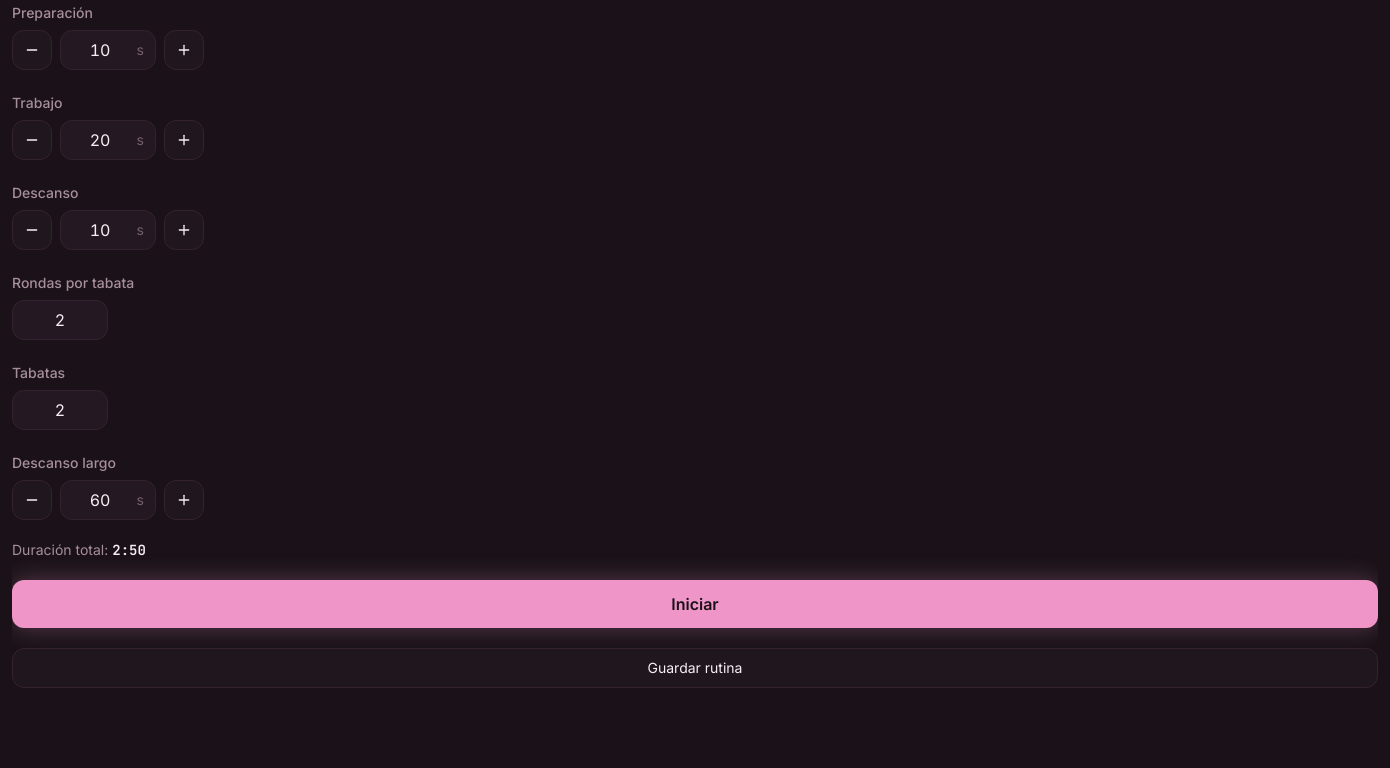
Scenario: TabataConfigScreen — los seis campos validan igual que Clásico (spec timer-modes) › Descanso = 0 muestra el mensaje español y no inicia
This screenshot has width=1390, height=768.
Replace the text in the field labelled "Descanso" with "0": (108, 230) 60,210 -> 156,250
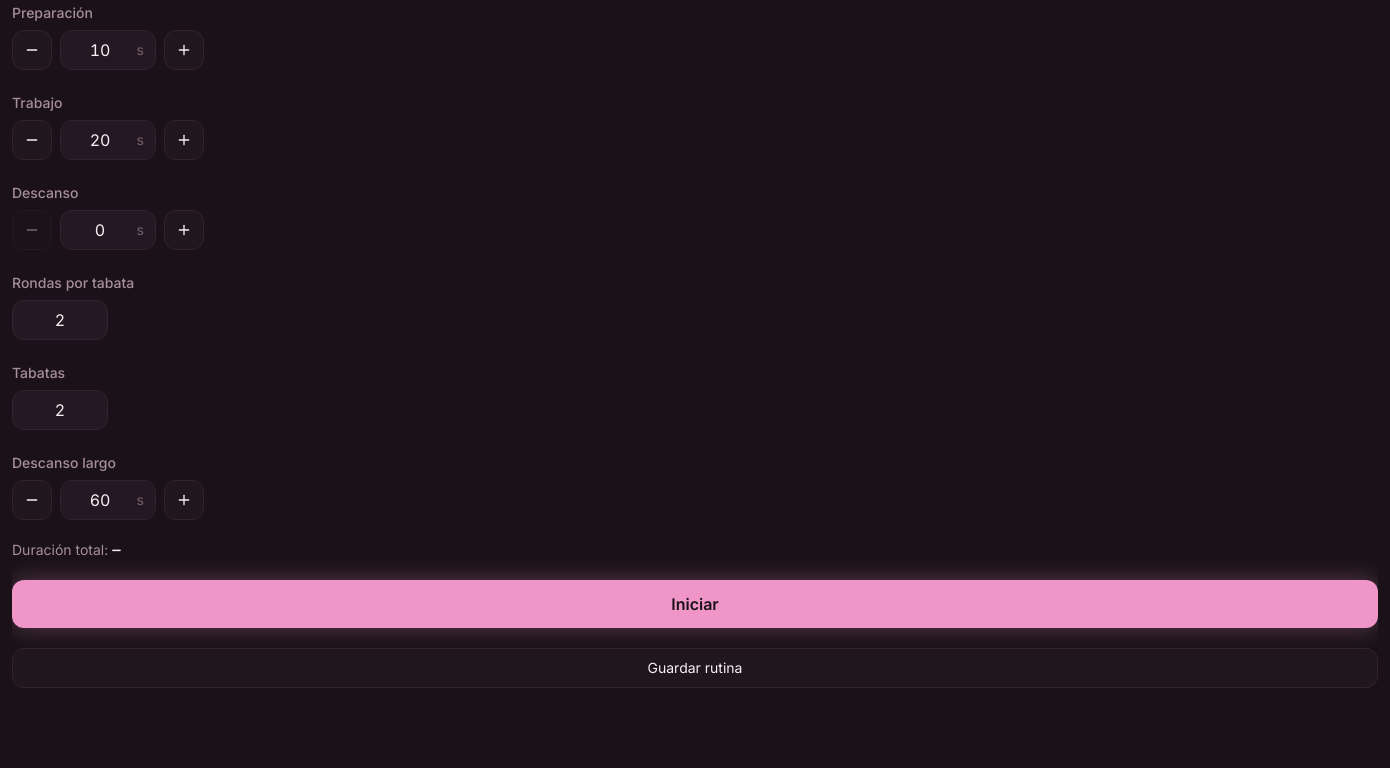
Click the button "Iniciar": (695, 604) 12,580 -> 1378,628
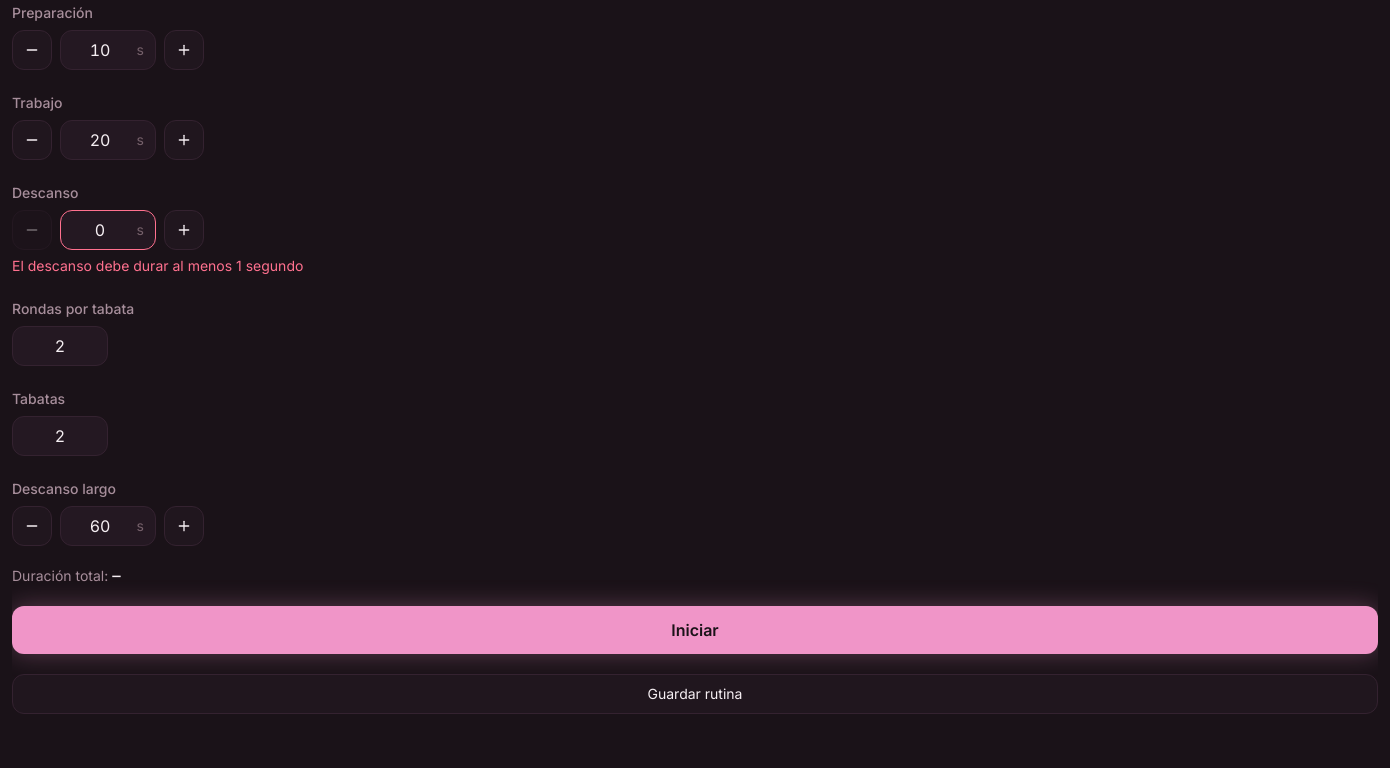
Result: the text "El descanso debe durar al menos 1 segundo" is shown at 12,257 -> 303,274
